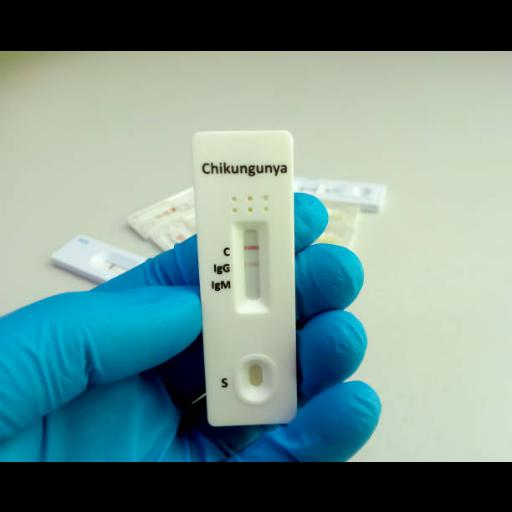Pos: (193, 129, 295, 421)
